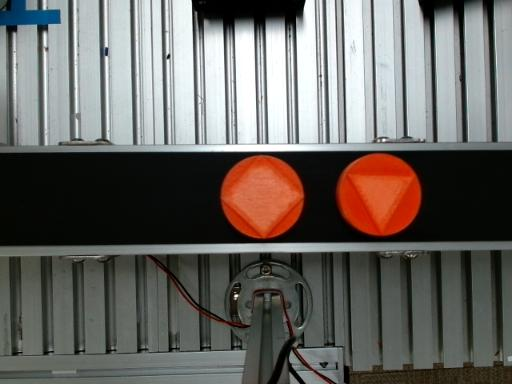Not_Square: (348, 173, 415, 233)
Orange_Waper: (335, 153, 422, 236), (221, 156, 304, 238)
Square: (222, 154, 304, 240)
